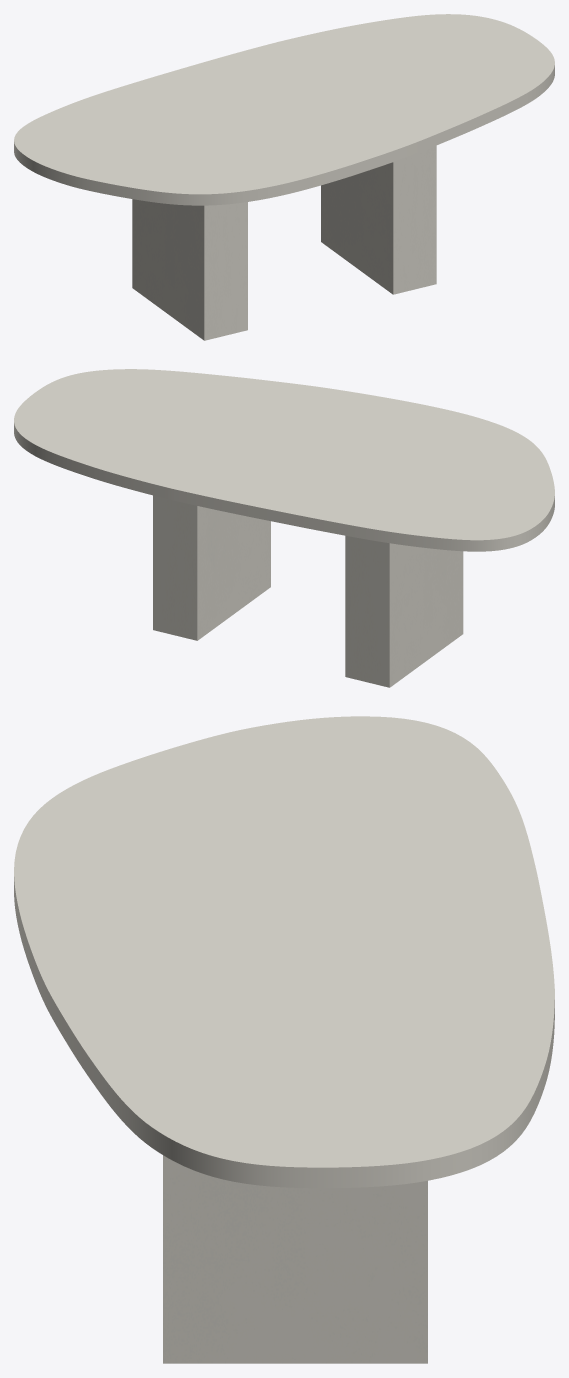
File: pale_leaf2_standard_ridge.glb
3 views of the same model, one above another, from view 1: azimuth 30°, elevation 25°; view 2: azimuth 150°, elevation 25°; view 3: azimuth 270°, elevation 25° (orthographic). The views are drawn at different scales.
Visible parts, largest first — view 1: standard_leaf2, ridge; view 2: standard_leaf2, ridge; view 3: standard_leaf2, ridge.
Boxes of the visible parts, bbox=[...] form: standard_leaf2: bbox=[14, 14, 554, 205]; ridge: bbox=[132, 145, 436, 340]; standard_leaf2: bbox=[14, 369, 554, 551]; ridge: bbox=[153, 495, 463, 687]; standard_leaf2: bbox=[14, 716, 554, 1188]; ridge: bbox=[163, 1155, 427, 1363].
Size of the model in its own units: 7.5 by 2.52 by 3.8.
1 material, 1 textured.
